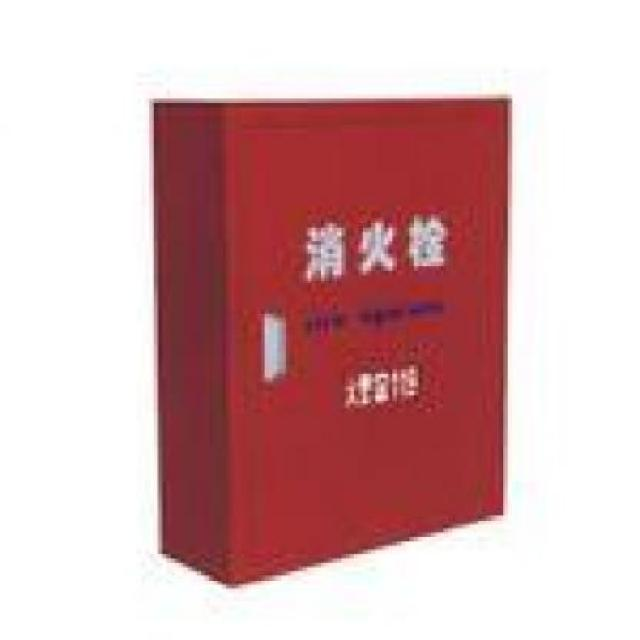firehydrant: (146, 81, 515, 597)
